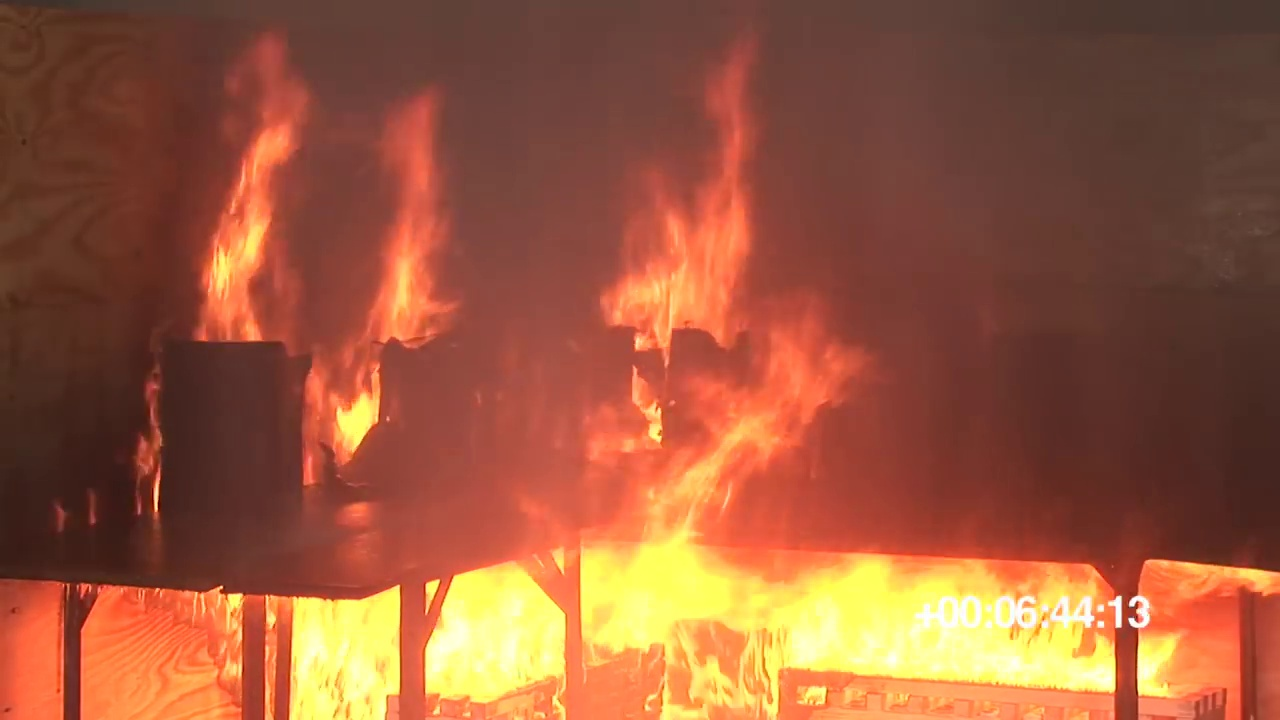fire: (271, 576, 1185, 713), (627, 55, 769, 334), (670, 337, 862, 482), (373, 99, 443, 333), (199, 123, 266, 344), (331, 393, 381, 454), (137, 373, 157, 485)
